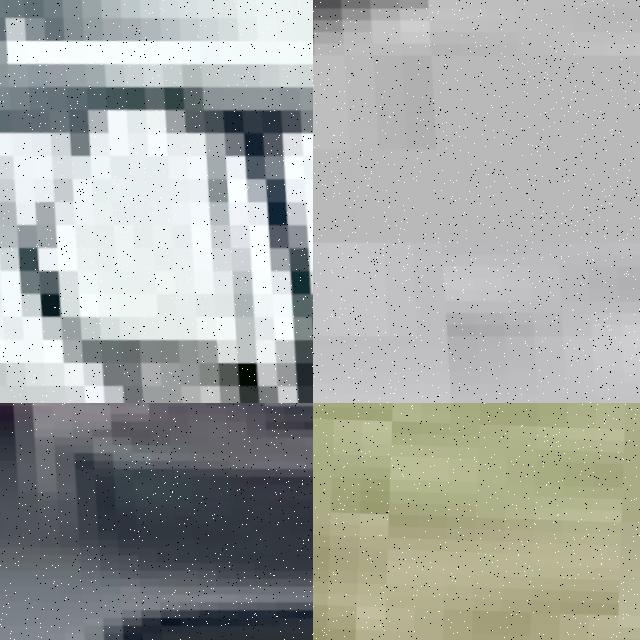drone: (313, 0, 640, 403), (0, 0, 313, 403), (0, 403, 313, 640)
